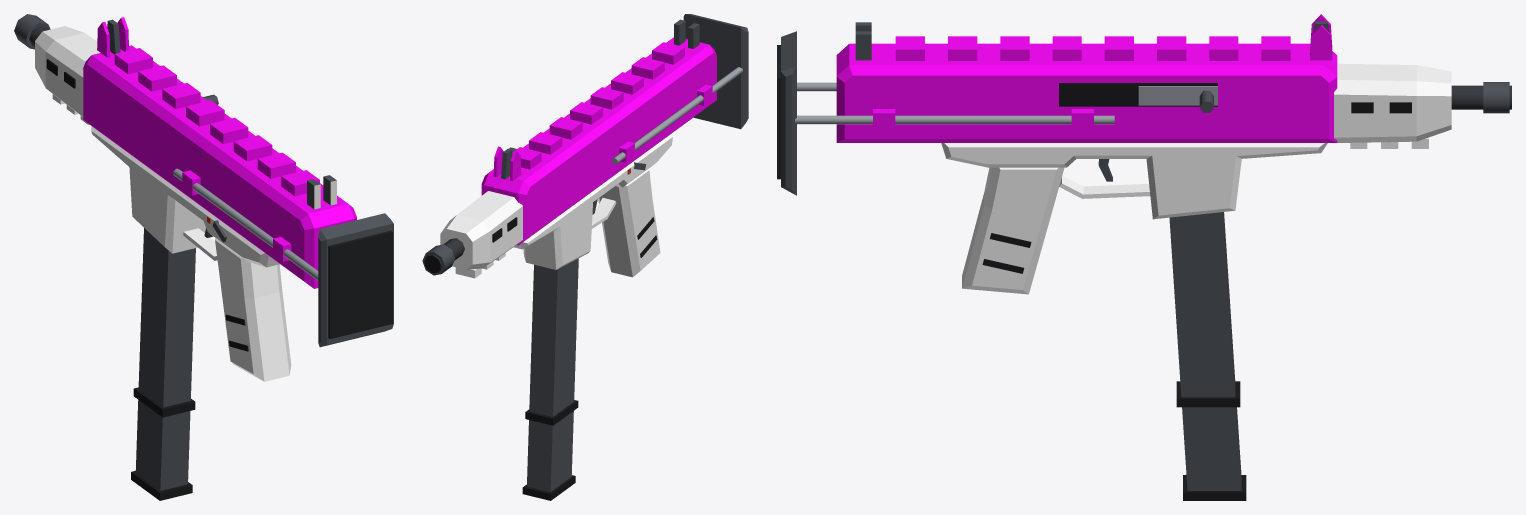
File: smg.glb
3 renders of one model, left to right at view 1: azimuth 30°, elevation 25°; view 2: azimuth 150°, elevation 25°; view 3: azimuth 270°, elevation 25°, orthographic. The views are drawn at different scales.
Parts seen in each view (by area): view 1: smg__body, smg__mag, smg__mag_ext; view 2: smg__body, smg__mag, smg__mag_ext; view 3: smg__body, smg__mag_ext, smg__mag, smg__bolt.
Part boxes in pixels (bbox=[...]): smg__body: bbox=[14, 14, 393, 381]; smg__mag: bbox=[133, 228, 195, 417]; smg__mag_ext: bbox=[131, 235, 195, 500]; smg__body: bbox=[422, 14, 748, 278]; smg__mag: bbox=[525, 258, 578, 425]; smg__mag_ext: bbox=[522, 260, 578, 500]; smg__body: bbox=[777, 14, 1511, 294]; smg__mag_ext: bbox=[1169, 212, 1246, 500]; smg__mag: bbox=[1169, 212, 1240, 407]; smg__bolt: bbox=[1138, 86, 1217, 112].
Size of the model in its own units: 0.069 by 0.328 by 0.4625.
1 material, 1 textured.
